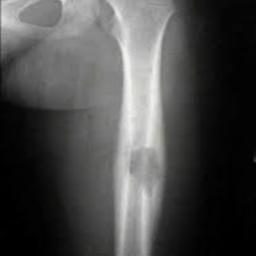cancer: (126, 151, 162, 194)
